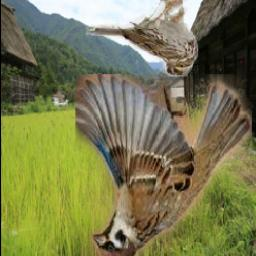Sparrow: (74, 75, 251, 256), (85, 0, 197, 76)
